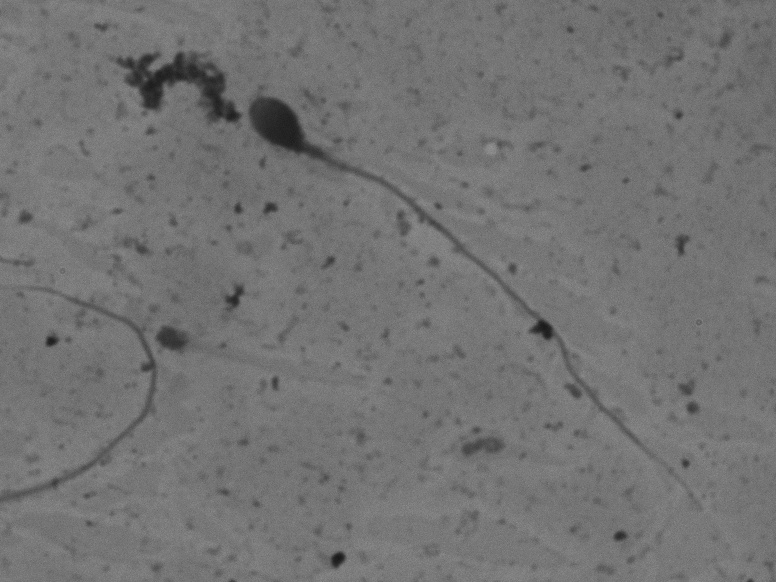Abnormal: (237, 48, 737, 548)
